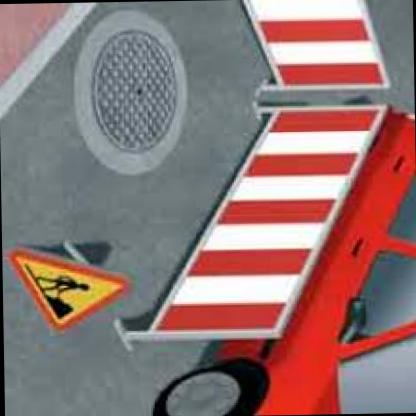manholes: (65, 6, 206, 190)
